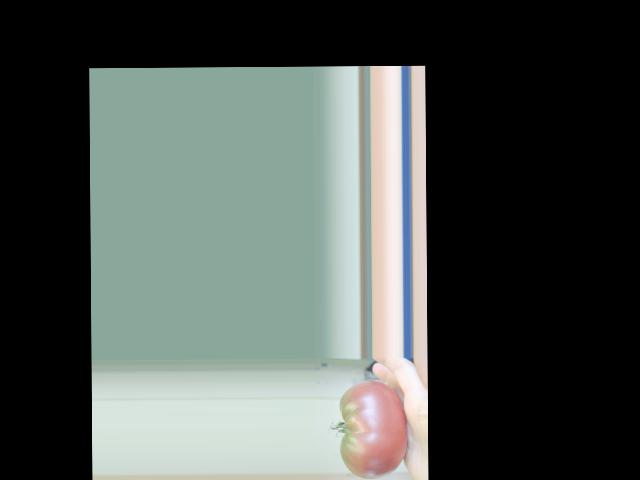tomato: (339, 380, 408, 479)
